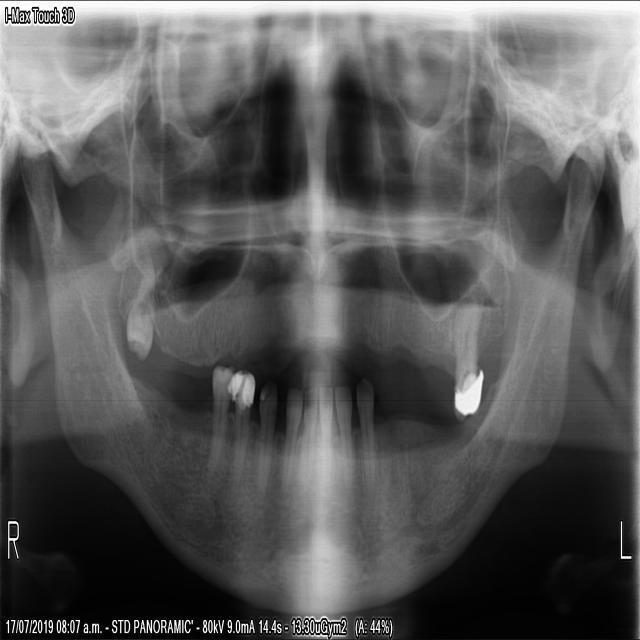LCD: (354, 372, 380, 476)
LID: (331, 385, 356, 474), (315, 378, 334, 471)
LMU: (451, 314, 483, 417)
RCD: (257, 373, 276, 497)
RID: (276, 380, 305, 486), (293, 360, 317, 471)
RMU: (121, 260, 157, 365)
RPMD: (200, 361, 234, 488), (229, 368, 255, 499)
